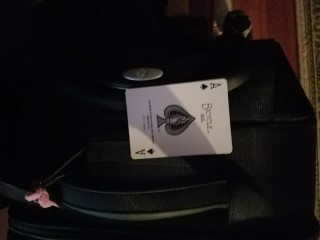AceOfSpades: (123, 78, 233, 160)
